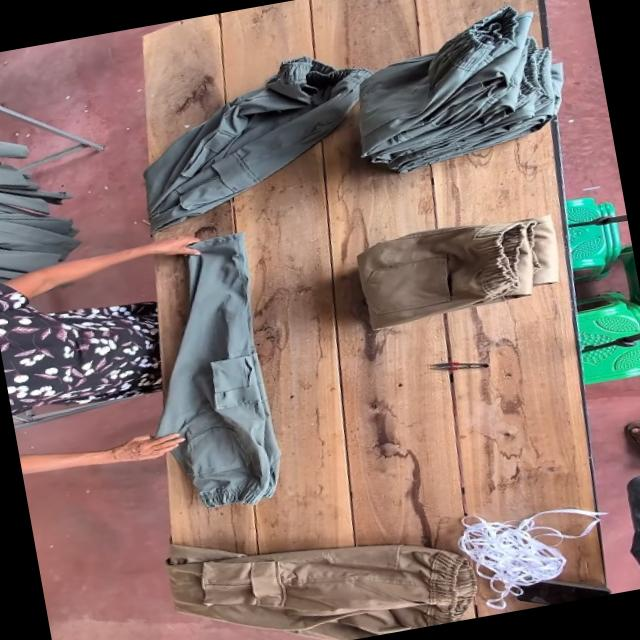new-garment: (157, 233, 279, 506)
